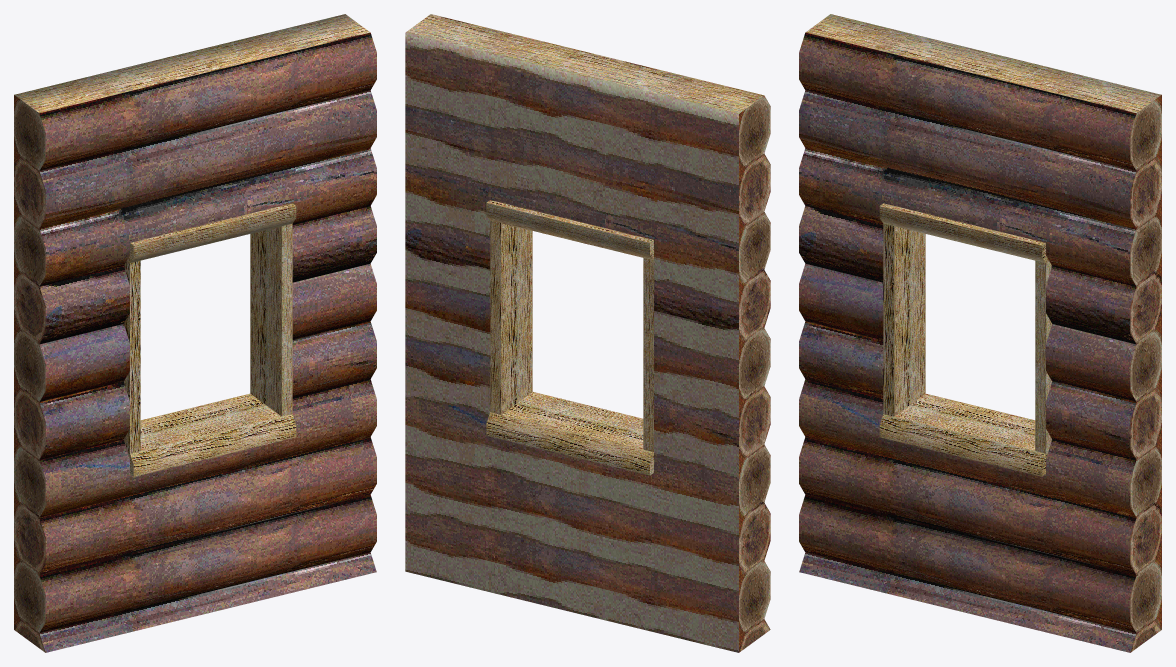
The model's file is wall-B-window.glb.
3 views of the same model, side by side, from view 1: azimuth 30°, elevation 25°; view 2: azimuth 150°, elevation 25°; view 3: azimuth 330°, elevation 25° (orthographic).
Visible parts, largest first — view 1: wall-B-window.001; view 2: wall-B-window.001; view 3: wall-B-window.001.
Boxes of the visible parts, x1=… form: wall-B-window.001: x1=14, y1=14, x2=376, y2=652; wall-B-window.001: x1=405, y1=14, x2=770, y2=652; wall-B-window.001: x1=799, y1=14, x2=1161, y2=652.
Bounding box in the file's own units: 2 × 3.09 × 0.411.
2 materials, 2 textured.
